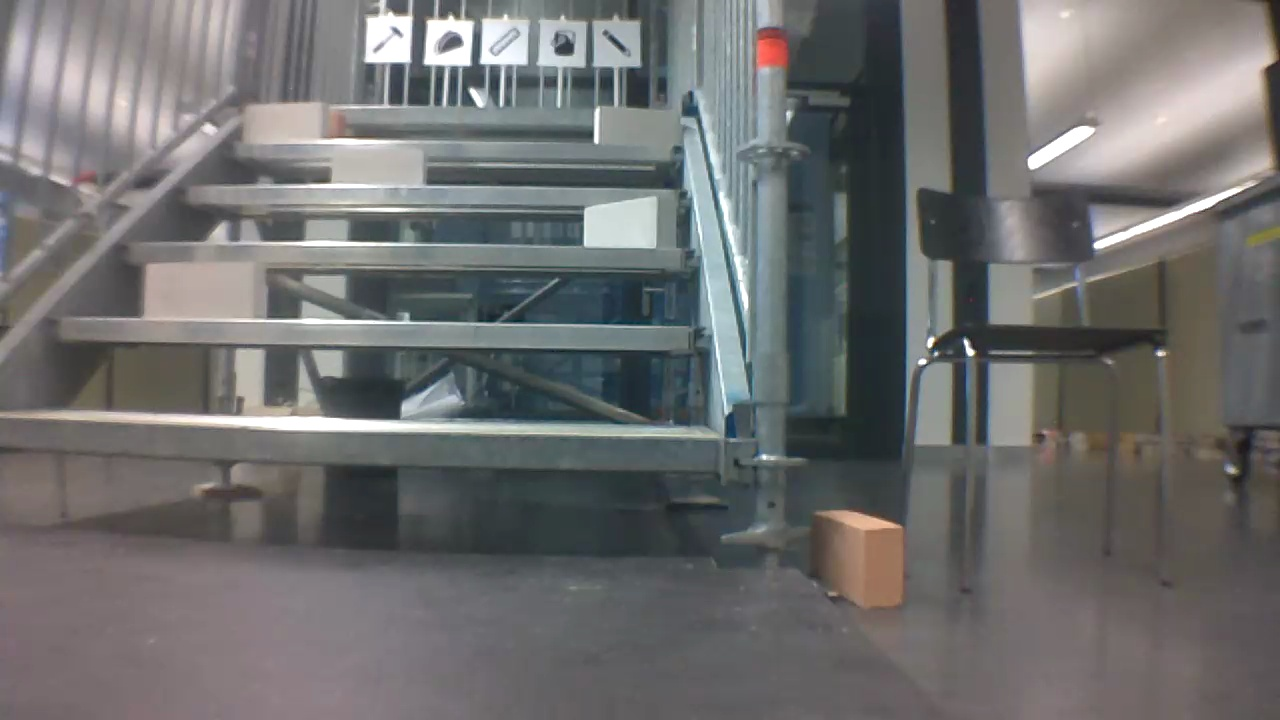brick: (143, 261, 267, 320), (584, 197, 676, 247), (331, 148, 428, 185), (592, 107, 674, 143), (247, 102, 325, 138), (329, 114, 345, 135)
bucket: (548, 26, 578, 57)
edge: (1, 418, 718, 468), (49, 319, 712, 349), (119, 243, 700, 268), (178, 186, 692, 206), (226, 139, 682, 161), (238, 105, 676, 127)
hammer: (367, 21, 406, 58)
pencil: (599, 27, 634, 59)
ruler: (487, 25, 524, 59)
stairs: (2, 1, 794, 557)
steps: (0, 96, 732, 487)
taco: (429, 27, 466, 57)
